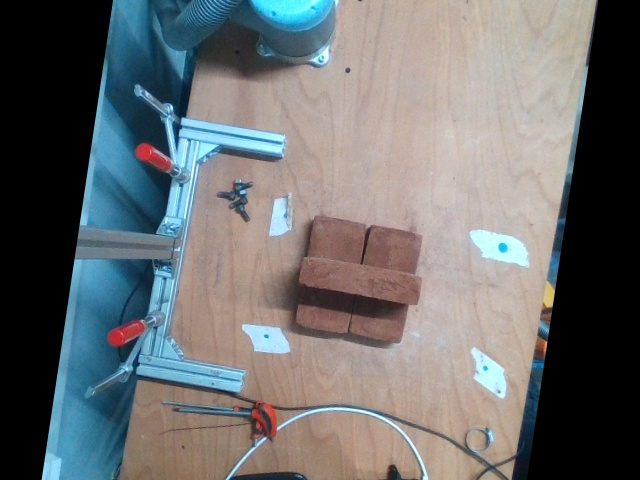brick-side: (298, 255, 423, 306)
